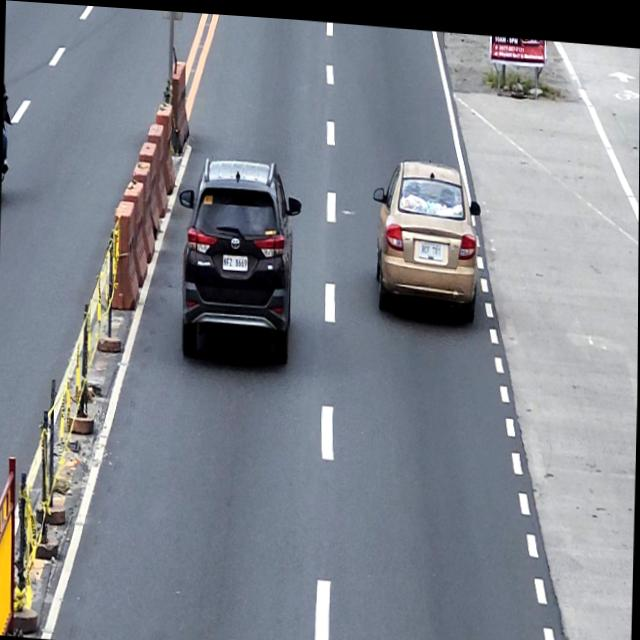Car: (175, 149, 302, 362), (370, 150, 481, 313)
License-Plate: (221, 248, 249, 269), (419, 236, 443, 252)
